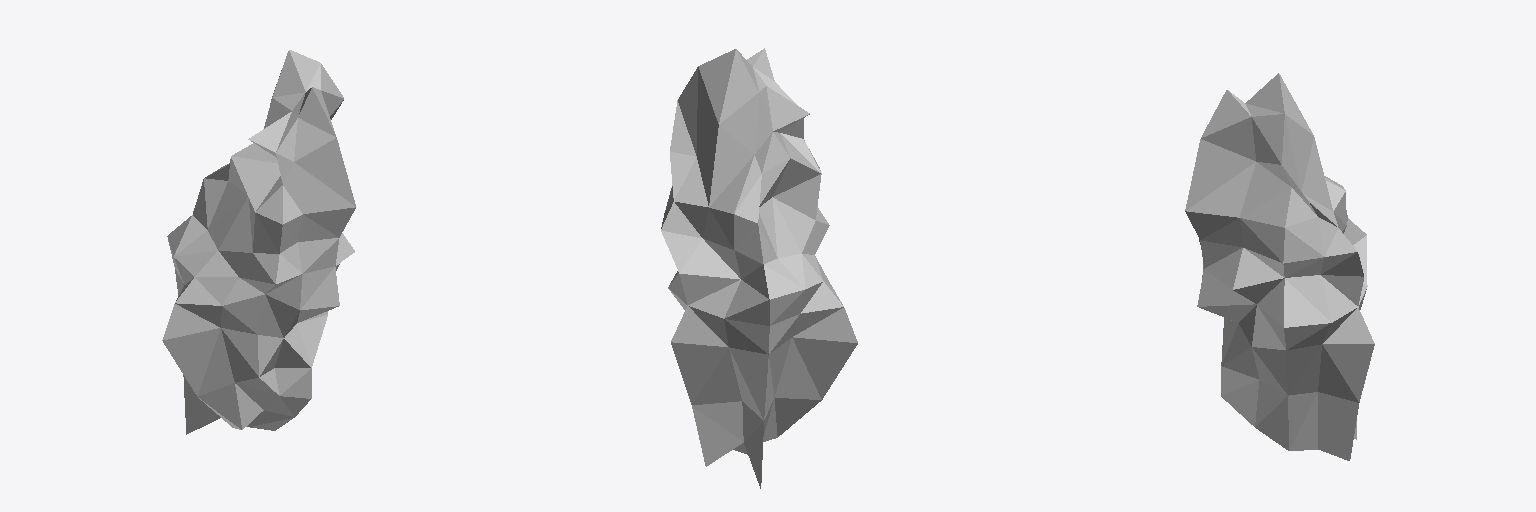
The model's file is composition_block.02.obj.
3 renders of one model, left to right at view 1: azimuth 30°, elevation 25°; view 2: azimuth 150°, elevation 25°; view 3: azimuth 270°, elevation 25°, orthographic.
Visible parts, largest first — view 1: compositing_block.02_Cube.001; view 2: compositing_block.02_Cube.001; view 3: compositing_block.02_Cube.001.
Boxes of the visible parts, box(x1,y1,x2,y2) form: compositing_block.02_Cube.001: box(162, 50, 355, 434); compositing_block.02_Cube.001: box(661, 48, 857, 488); compositing_block.02_Cube.001: box(1185, 73, 1374, 460).
Size of the model in its own units: 1.67 by 3.46 by 1.49.